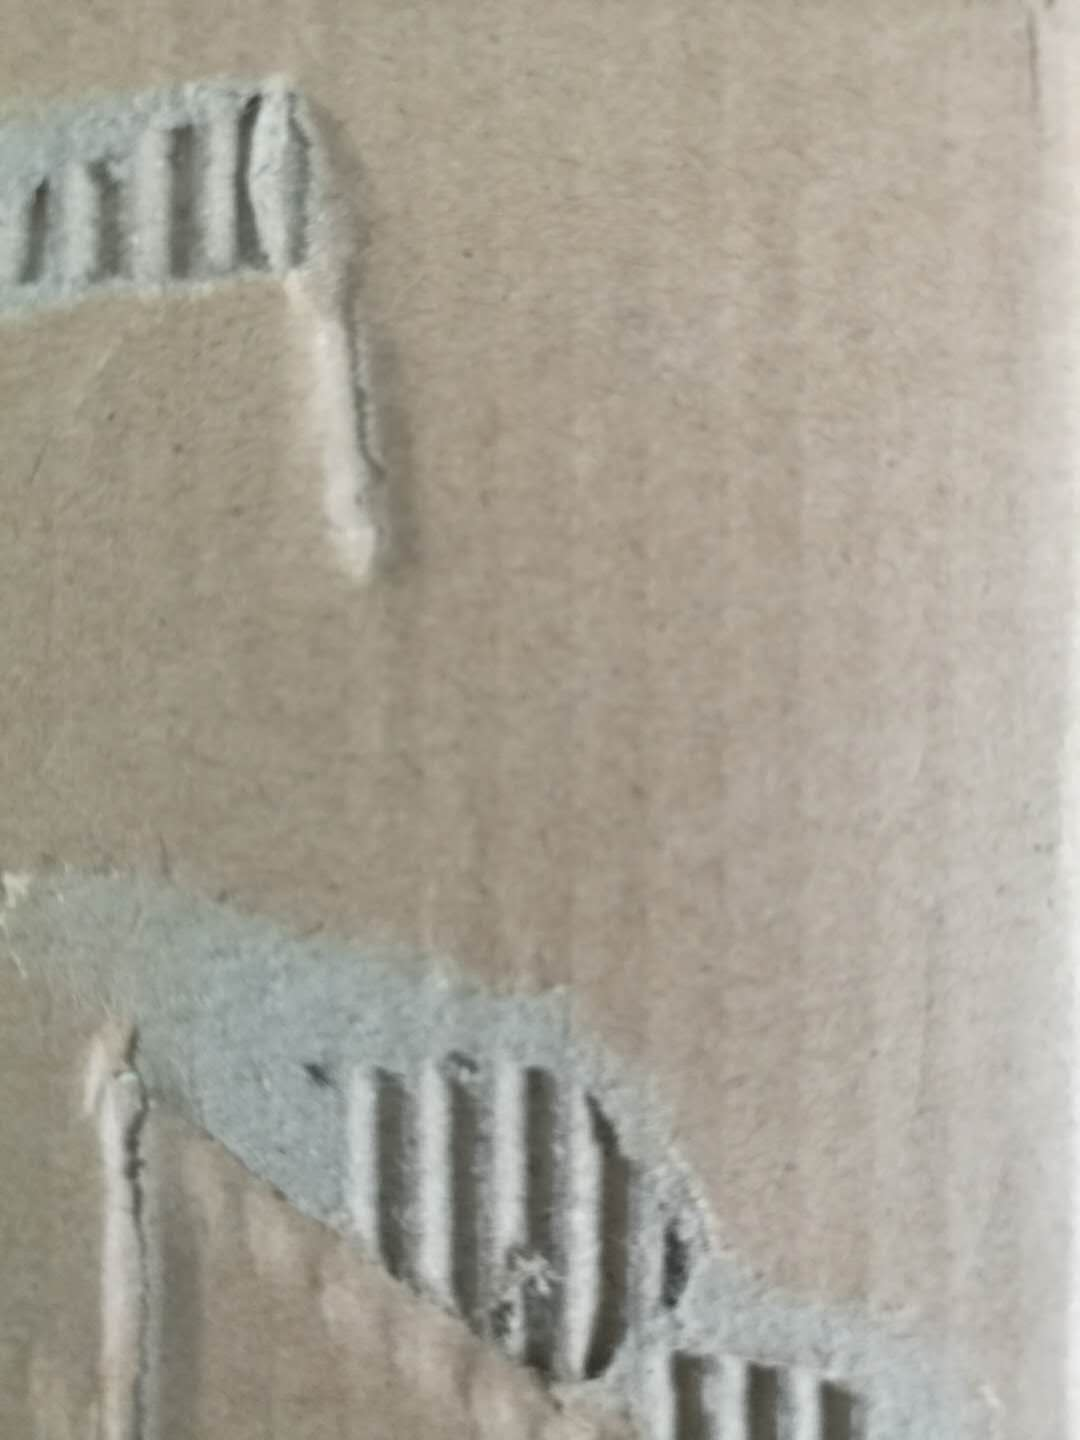defect: (1, 819, 1080, 1437), (3, 61, 455, 613)
